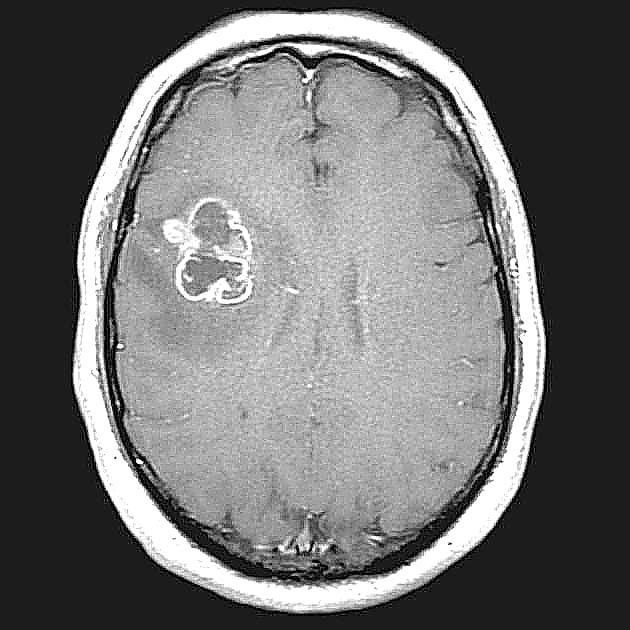Tumor: (150, 184, 266, 307)
